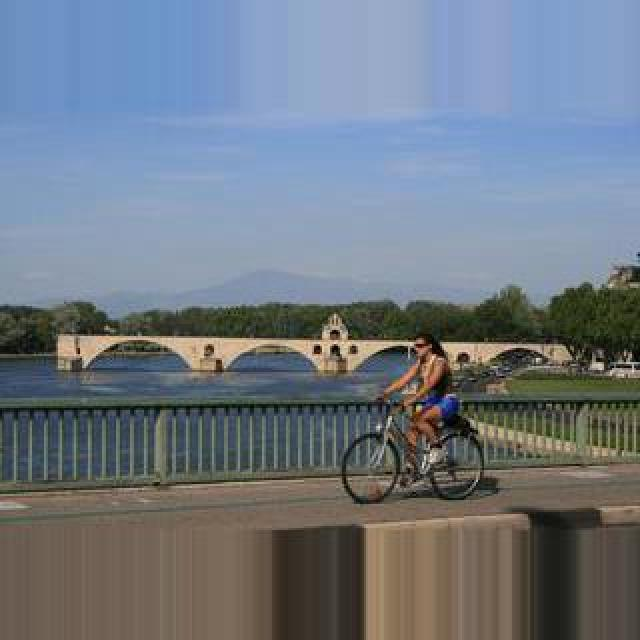Bus-Bike: (222, 344, 322, 378)
MC-Bike: (382, 332, 456, 484)
Person: (340, 396, 486, 504)
